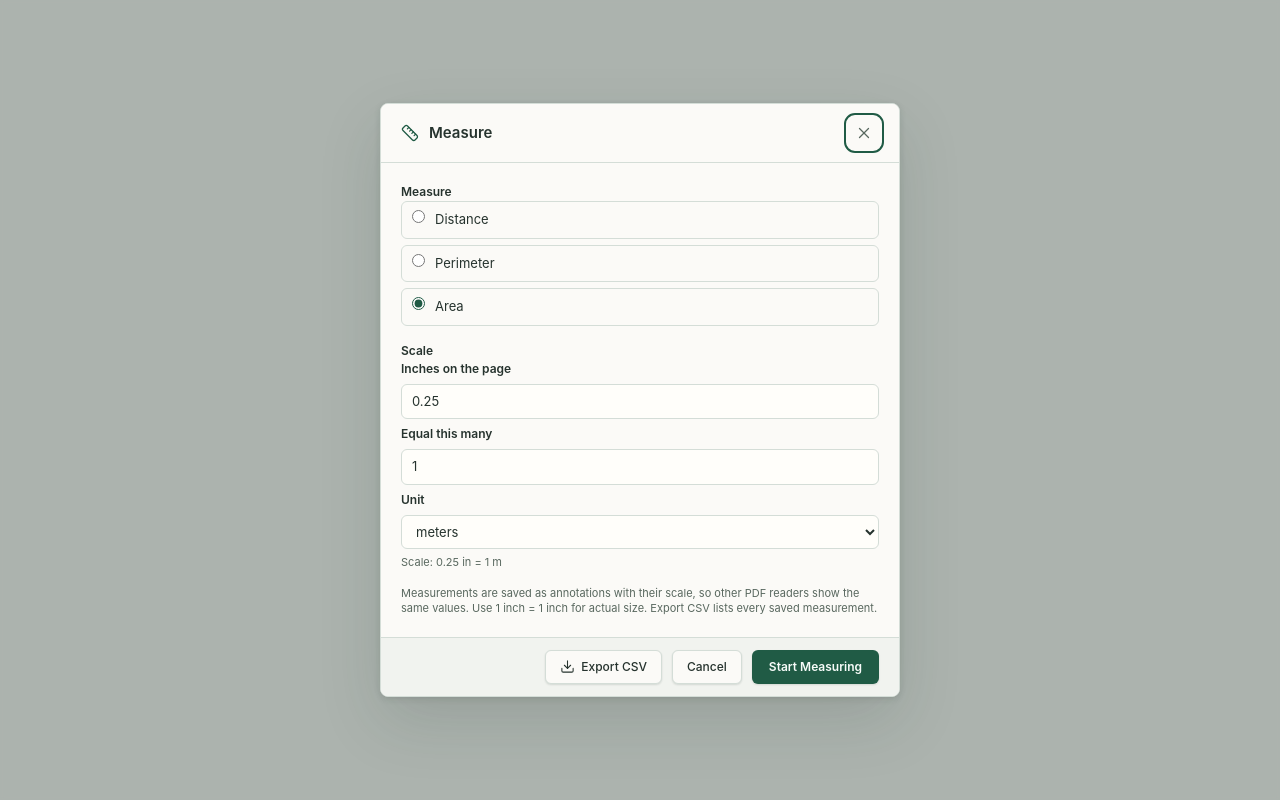
Test: MeasureDialog › requires a positive scale
The image size is (1280, 800).
Replace the text in the number field labelled "Equal this many" with "0" at coordinates (640, 467), box [401,449,879,485]
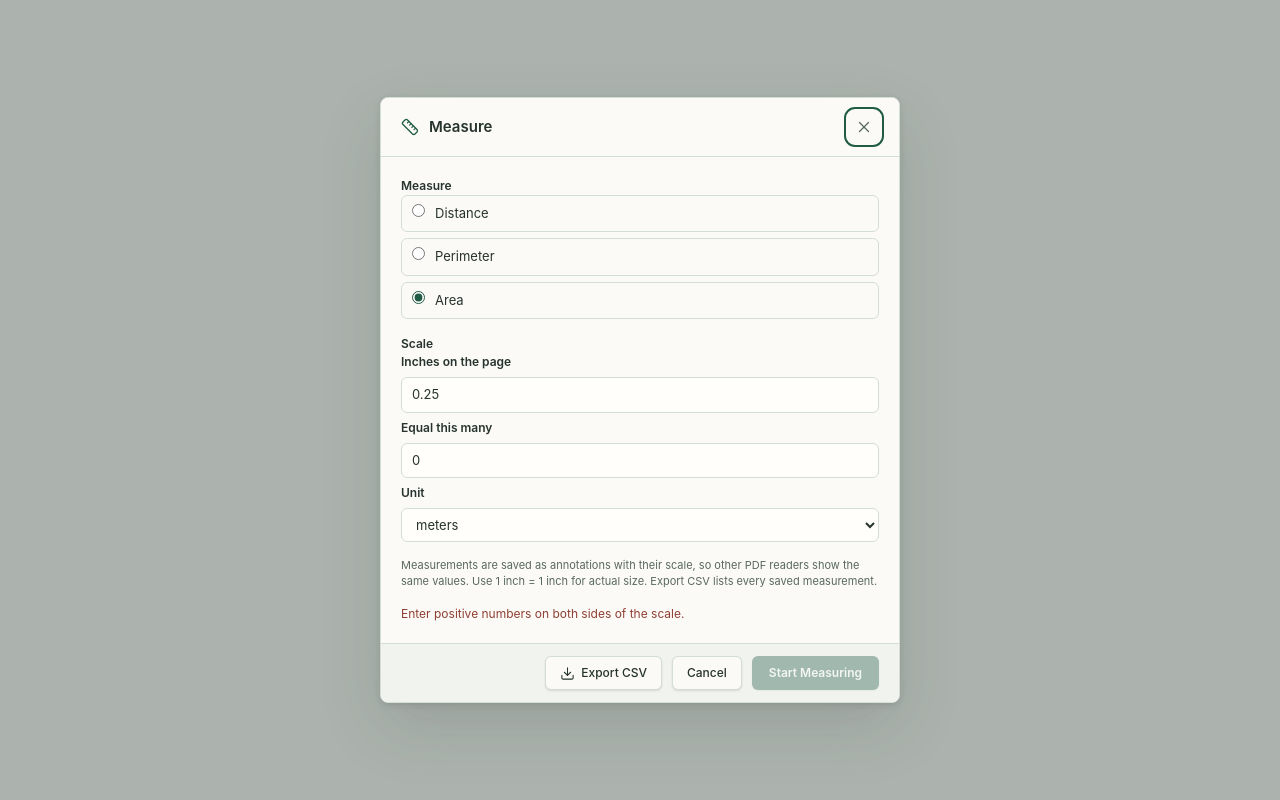
Now the message shows "positive numbers", box [401,606,684,621]
Now the button "Start Measuring" is disabled, box [752,656,879,690]
